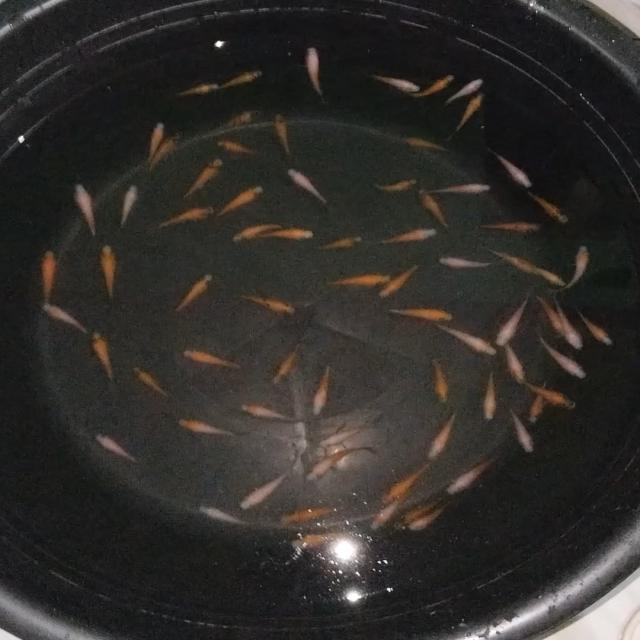nila: (238, 464, 293, 514), (300, 447, 367, 485), (538, 332, 588, 378), (378, 464, 438, 502), (433, 323, 502, 356), (320, 416, 378, 454), (300, 44, 336, 104), (494, 294, 534, 348), (446, 456, 497, 498), (422, 413, 464, 463), (205, 105, 263, 140), (92, 430, 144, 468), (550, 290, 582, 351), (214, 185, 268, 221), (490, 149, 535, 192), (526, 378, 584, 410), (284, 166, 330, 206), (183, 156, 226, 198), (174, 271, 215, 315), (524, 189, 572, 226), (154, 202, 222, 228), (180, 346, 252, 370), (577, 304, 617, 346), (275, 503, 342, 528), (376, 262, 420, 300), (508, 407, 541, 457), (130, 364, 173, 402), (195, 502, 253, 530), (238, 291, 298, 318), (402, 507, 456, 537), (497, 332, 528, 384), (236, 398, 298, 424), (318, 269, 398, 289), (40, 302, 90, 334), (270, 339, 304, 386), (364, 496, 406, 534), (563, 243, 592, 298), (149, 128, 184, 172), (394, 497, 442, 529), (71, 182, 99, 236), (89, 330, 116, 386), (428, 350, 454, 408), (491, 246, 538, 278), (376, 224, 438, 248), (456, 90, 488, 136), (176, 416, 240, 438), (36, 248, 59, 308), (481, 366, 503, 428), (366, 72, 427, 94), (99, 241, 122, 299), (310, 363, 334, 418), (288, 531, 354, 551), (418, 192, 452, 230), (270, 114, 298, 160), (218, 66, 266, 92), (403, 132, 455, 156), (116, 182, 143, 228), (231, 223, 285, 246), (444, 75, 484, 106), (526, 374, 550, 425), (414, 70, 454, 100), (435, 252, 501, 270), (388, 305, 454, 323), (534, 294, 562, 336), (254, 226, 318, 244), (310, 232, 366, 252), (143, 118, 169, 158), (478, 218, 544, 233), (170, 81, 220, 100), (216, 140, 264, 159), (436, 182, 498, 196), (370, 177, 420, 194), (533, 267, 567, 290)
